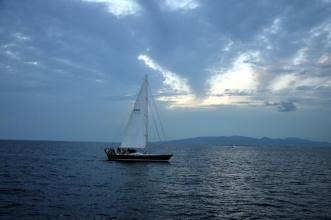fanchuan: (104, 70, 181, 163)
